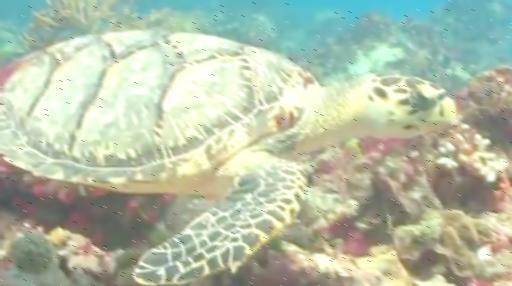Fish: (0, 30, 457, 285)
